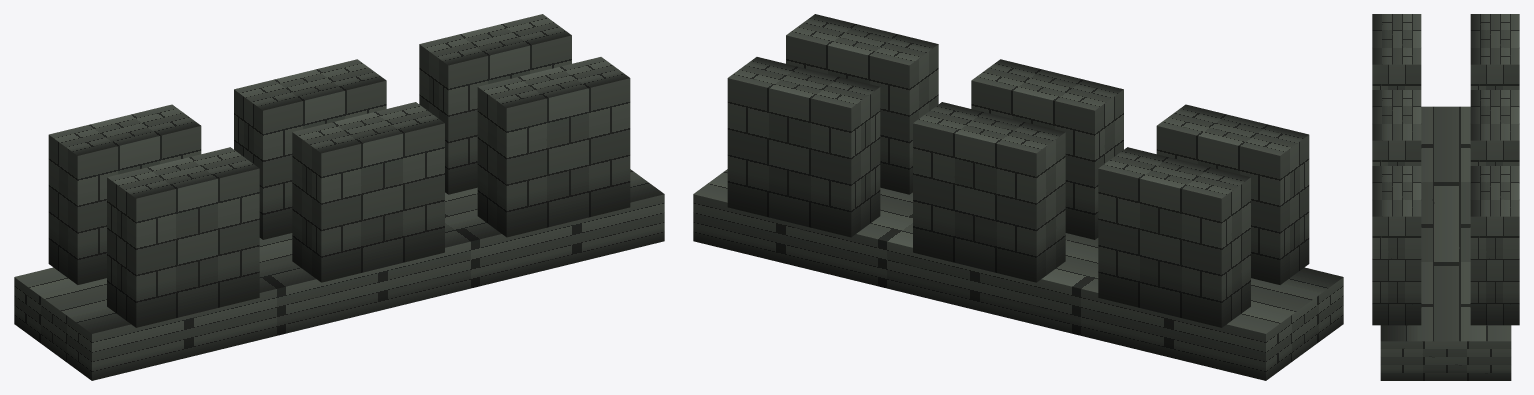
File: parapet.gltf
3 renders of one model, left to right at view 1: azimuth 30°, elevation 25°; view 2: azimuth 150°, elevation 25°; view 3: azimuth 270°, elevation 25°, orthographic. The views are drawn at different scales.
Visible parts, largest first — view 1: parapet; view 2: parapet; view 3: parapet.
Boxes of the visible parts, box(x1,y1,x2,y2) form: parapet: box(14, 14, 664, 380); parapet: box(693, 14, 1343, 380); parapet: box(1372, 14, 1519, 380).
Bounding box in the file's own units: 1.02 × 0.3 × 0.27.
1 material, 1 textured.
